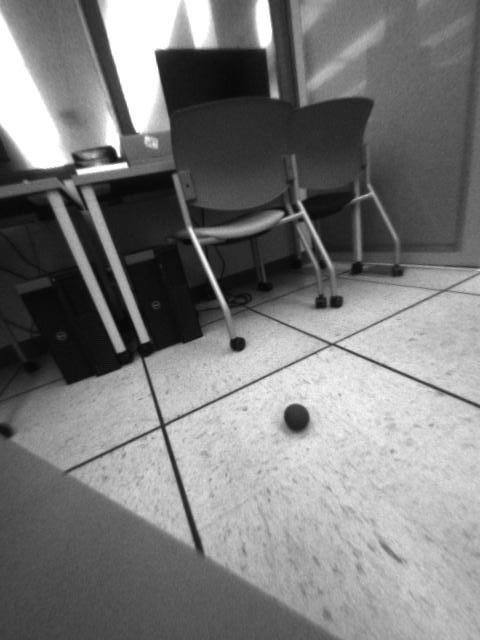dogtoy: (279, 393, 321, 438)
